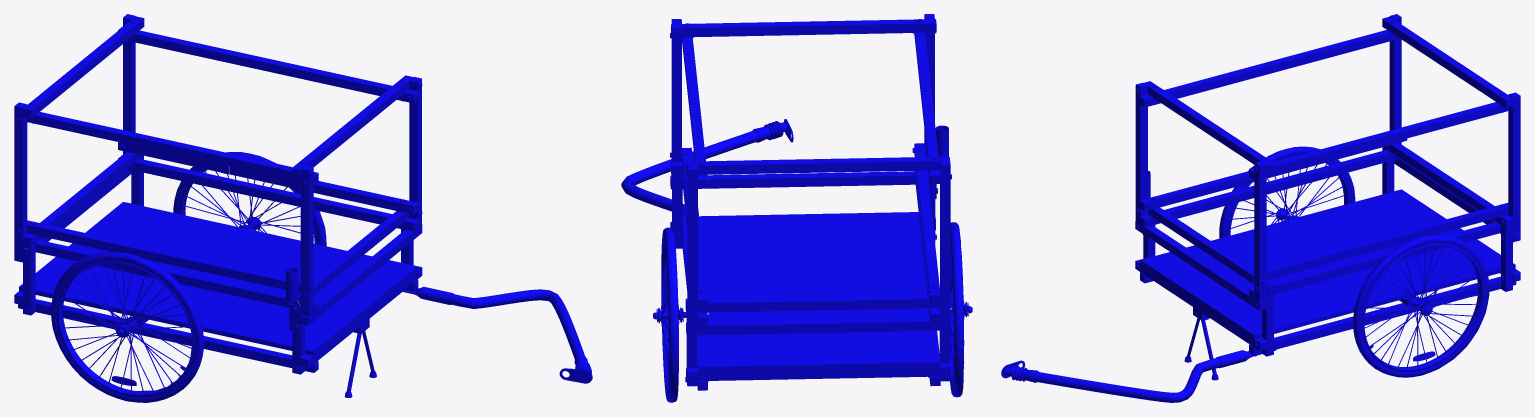
Rendered from lillelys.glb.
3 views of the same model, side by side, from view 1: azimuth 30°, elevation 25°; view 2: azimuth 150°, elevation 25°; view 3: azimuth 270°, elevation 25° (orthographic). The views are drawn at different scales.
Visible parts, largest first — view 1: Trailer_Francesco_Hannes_GOG_finish (less poligons).1422; view 2: Trailer_Francesco_Hannes_GOG_finish (less poligons).1422; view 3: Trailer_Francesco_Hannes_GOG_finish (less poligons).1422.
Part boxes in pixels (box(x1,y1,x2,y2)): Trailer_Francesco_Hannes_GOG_finish (less poligons).1422: box(14, 14, 592, 402); Trailer_Francesco_Hannes_GOG_finish (less poligons).1422: box(621, 14, 972, 402); Trailer_Francesco_Hannes_GOG_finish (less poligons).1422: box(1001, 14, 1520, 402).
Bounding box in the file's own units: 93.57 × 56.06 × 106.
